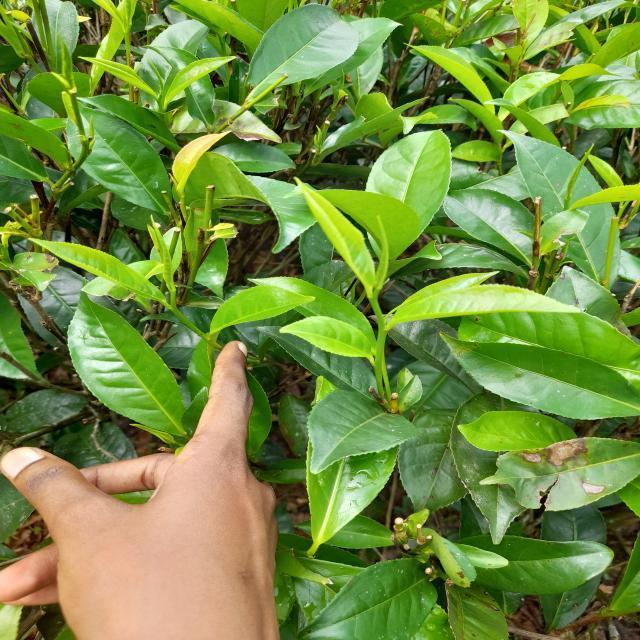Stem: (370, 295, 377, 305), (169, 302, 176, 309), (124, 27, 129, 34)
